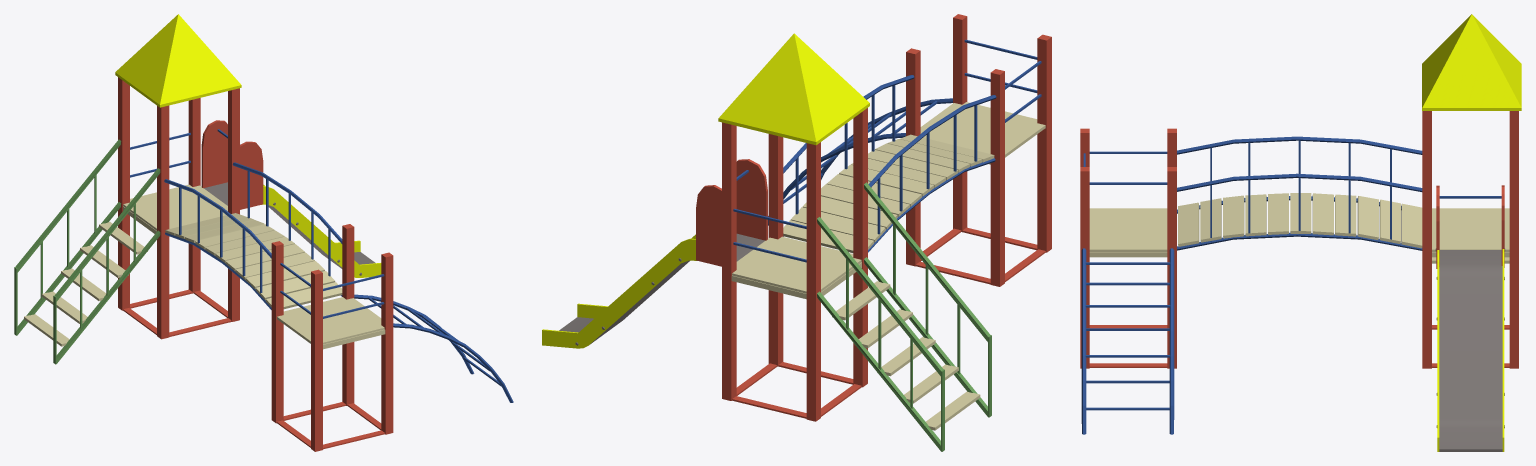
The model's file is SM_Playground_01.fbx.
3 renders of one model, left to right at view 1: azimuth 30°, elevation 25°; view 2: azimuth 150°, elevation 25°; view 3: azimuth 270°, elevation 25°, orthographic. The views are drawn at different scales.
Visible parts, largest first — view 1: SM_Playground_01; view 2: SM_Playground_01; view 3: SM_Playground_01.
Boxes of the visible parts, x1,y1,x2,y2 form: SM_Playground_01: (14, 14, 513, 451); SM_Playground_01: (542, 14, 1051, 451); SM_Playground_01: (1080, 14, 1521, 451).
Bounding box in the file's own units: 384 × 323 × 388.
